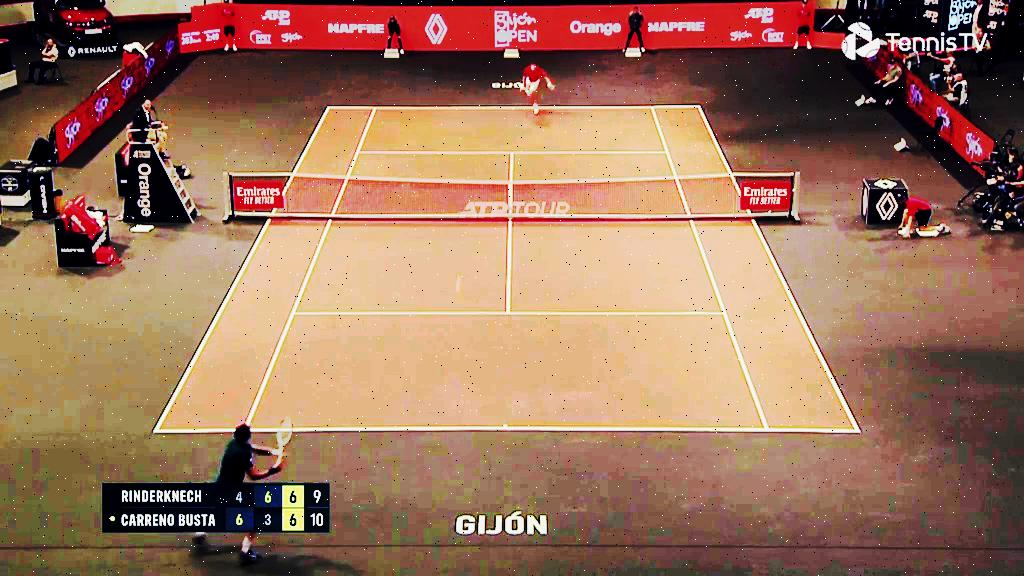tennis-court: (153, 106, 861, 432)
